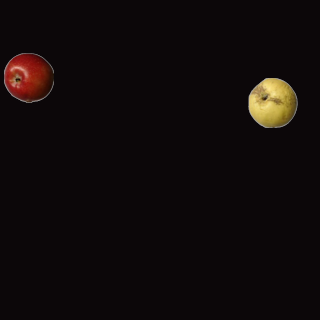Apple Braeburn: (3, 52, 53, 102)
Apple Golden 1: (247, 77, 297, 127)
